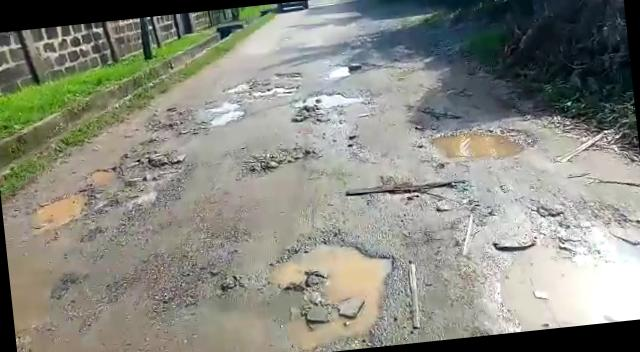pothole: (491, 200, 640, 334), (261, 227, 406, 352), (65, 152, 196, 209), (422, 118, 538, 165), (285, 89, 368, 121), (28, 190, 94, 230), (196, 100, 249, 130), (234, 79, 308, 100)
